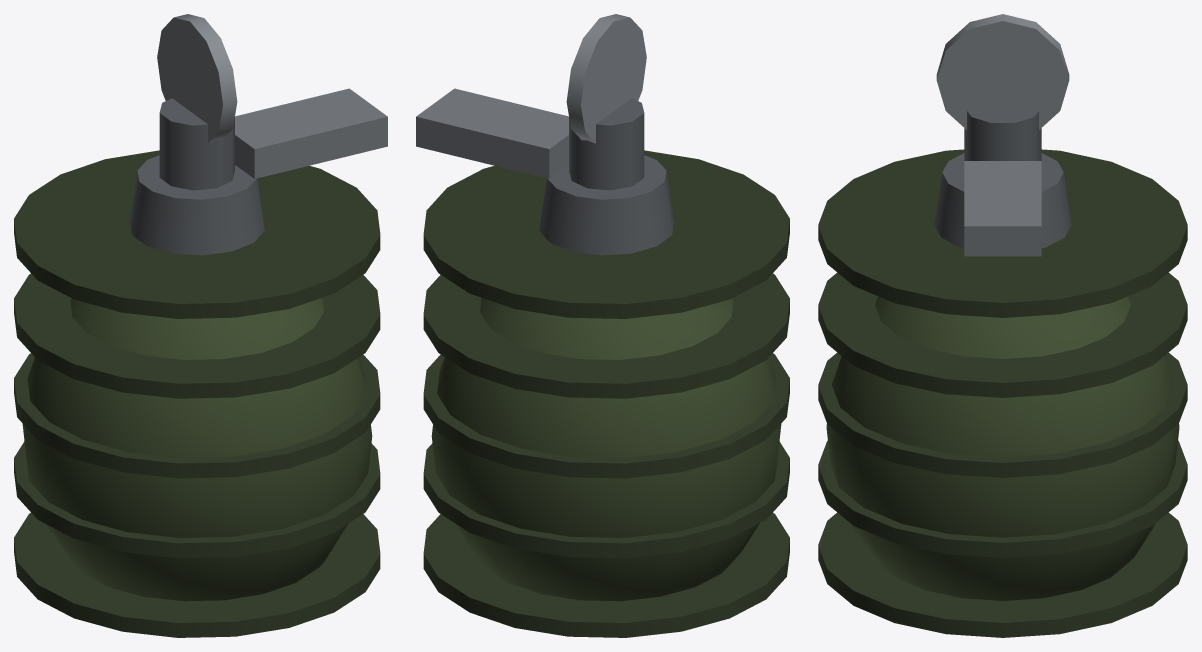
File: grenade.glb
3 views of the same model, side by side, from view 1: azimuth 30°, elevation 25°; view 2: azimuth 150°, elevation 25°; view 3: azimuth 270°, elevation 25° (orthographic).
Size of the model in its own units: 0.0695 by 0.118 by 0.067.
